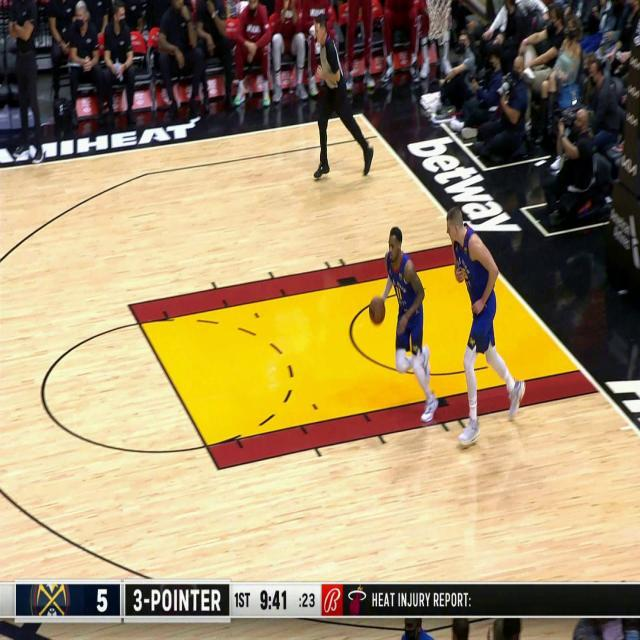rim: (369, 296, 386, 324)
